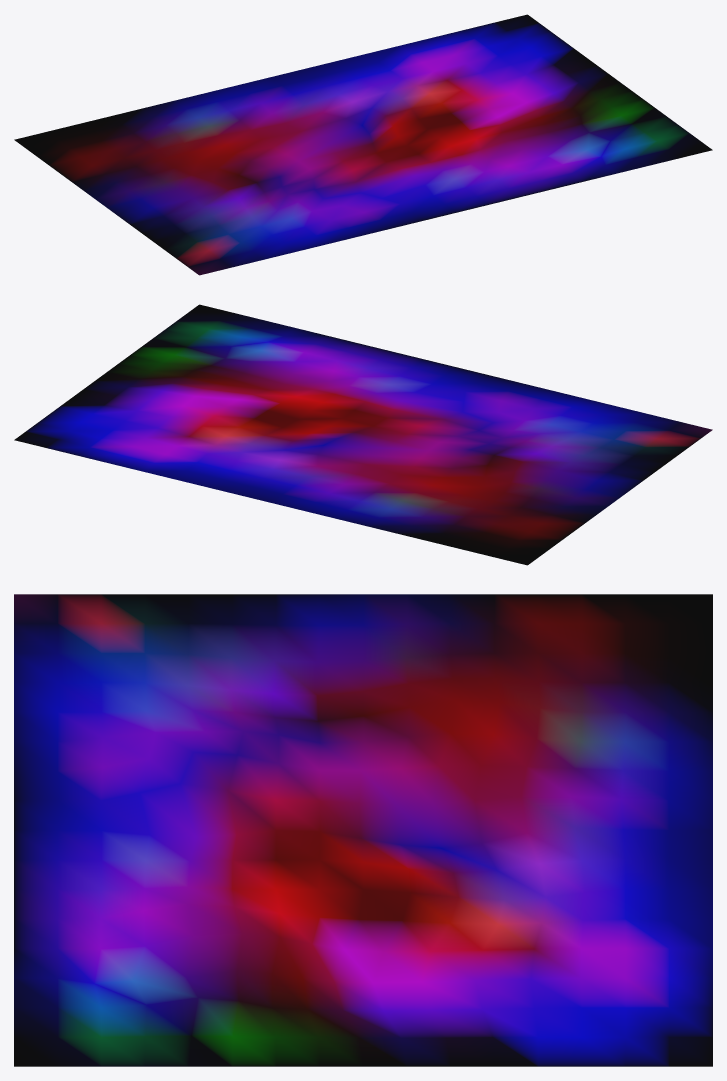
File: M_Env_Sol2.fbx
3 renders of one model, top to bottom at view 1: azimuth 30°, elevation 25°; view 2: azimuth 150°, elevation 25°; view 3: azimuth 270°, elevation 25°, orthographic. The views are drawn at different scales.
Visible parts, largest first — view 1: Plane.040; view 2: Plane.040; view 3: Plane.040.
Part boxes in pixels (<box>): Plane.040: <box>14,14,712,275</box>; Plane.040: <box>14,304,712,565</box>; Plane.040: <box>14,594,712,1066</box>.
Size of the model in its own units: 0.0258 by 0.0161 by 9.78e-06.
